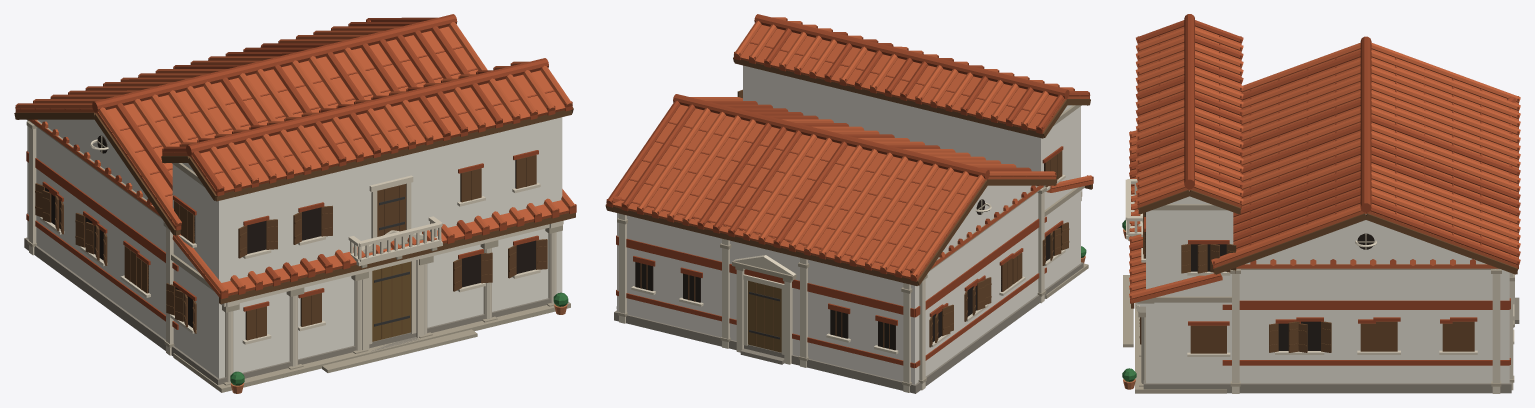
The model's file is Stadtvilla.fbx.
3 views of the same model, side by side, from view 1: azimuth 30°, elevation 25°; view 2: azimuth 150°, elevation 25°; view 3: azimuth 270°, elevation 25° (orthographic). The views are drawn at different scales.
Parts seen in each view (by area): view 1: Stadtvilla_1, Stadtvilla_0; view 2: Stadtvilla_0, Stadtvilla_1; view 3: Stadtvilla_0, Stadtvilla_1.
Boxes of the visible parts, <box> form: Stadtvilla_1: <box>24,19,573,384</box>; Stadtvilla_0: <box>14,14,576,393</box>; Stadtvilla_0: <box>605,94,1093,393</box>; Stadtvilla_1: <box>613,14,1090,393</box>; Stadtvilla_0: <box>1122,36,1520,393</box>; Stadtvilla_1: <box>1125,14,1519,393</box>.
Size of the model in its own units: 3.67 by 2.18 by 3.64.
